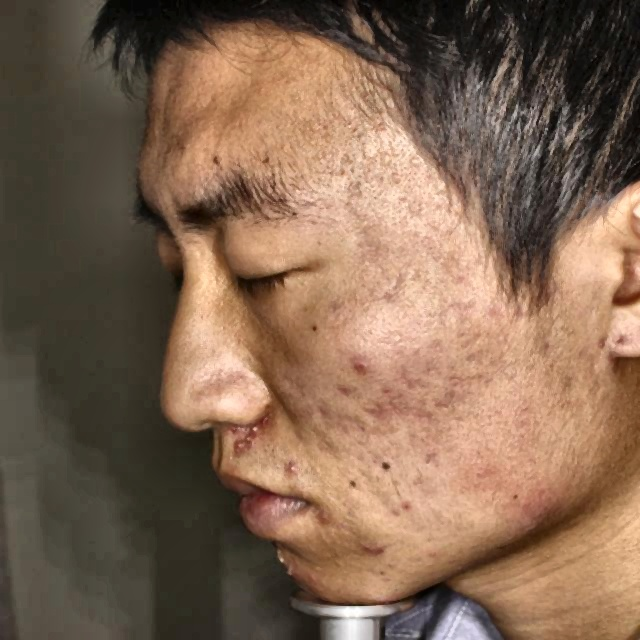pustule: (364, 539, 388, 561), (314, 506, 342, 523), (243, 425, 268, 444), (306, 567, 331, 586), (282, 459, 300, 478), (230, 441, 248, 458), (270, 546, 287, 563), (282, 558, 296, 578), (347, 360, 368, 373)
